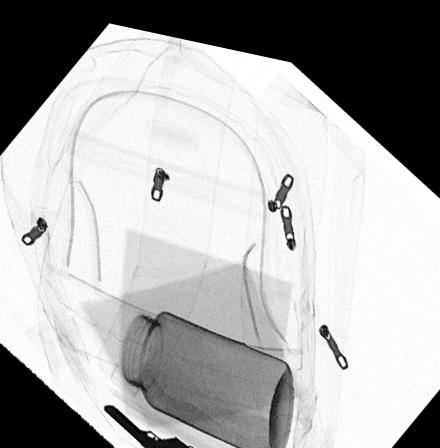Gun: (101, 399, 192, 448)
